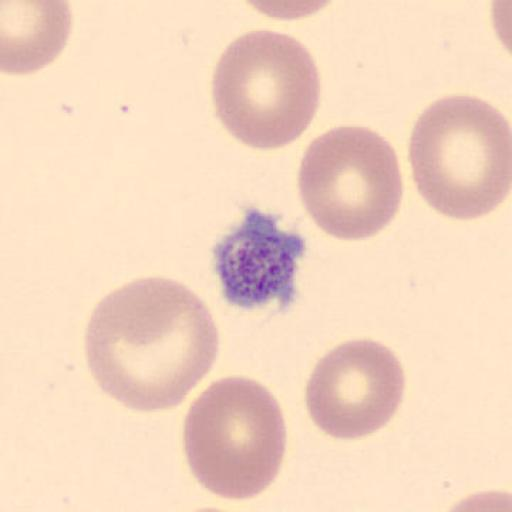Platelet: (210, 211, 306, 314)
RBC: (84, 276, 219, 415), (210, 26, 324, 153), (180, 373, 288, 504), (407, 90, 512, 223), (295, 122, 405, 242), (304, 336, 408, 442), (2, 0, 76, 76), (240, 0, 346, 23), (435, 488, 512, 512), (489, 1, 512, 60), (170, 503, 251, 512)
